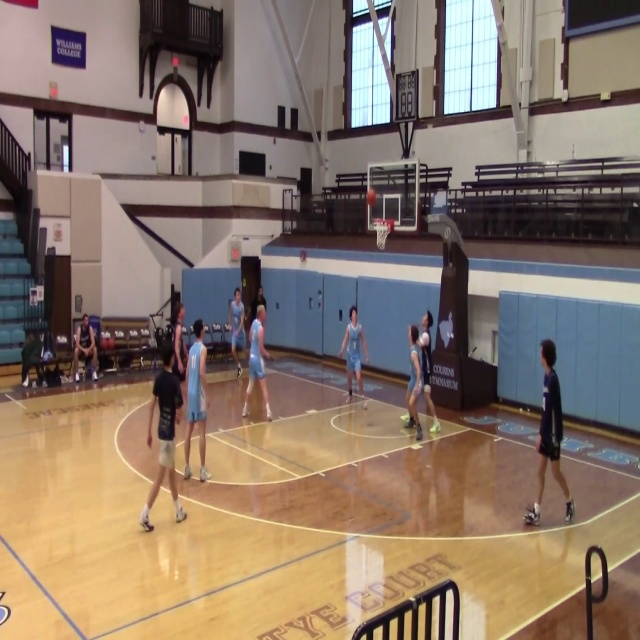Basketball: (100, 336, 114, 350), (418, 332, 430, 347), (366, 189, 376, 206), (400, 413, 410, 422)
